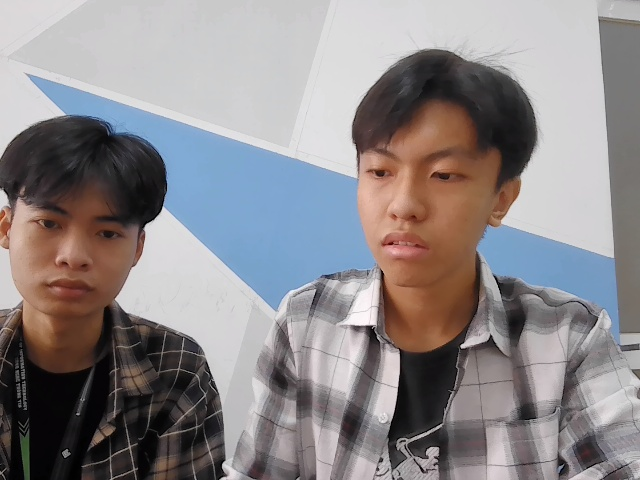human: (351, 47, 537, 294), (1, 108, 169, 326)
